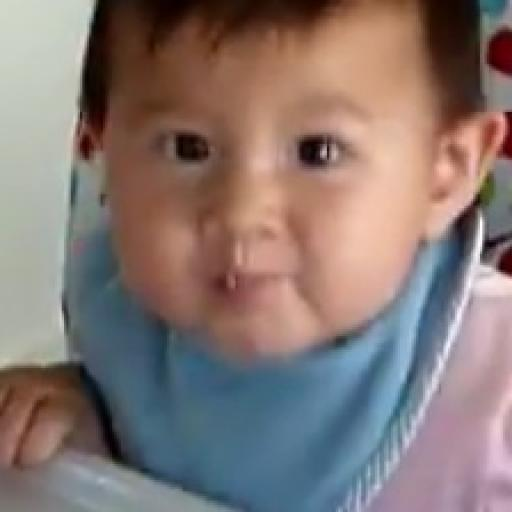Autism: (38, 0, 502, 413)
